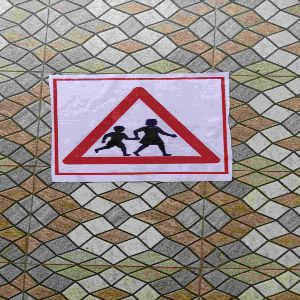schools: (52, 83, 228, 174)
